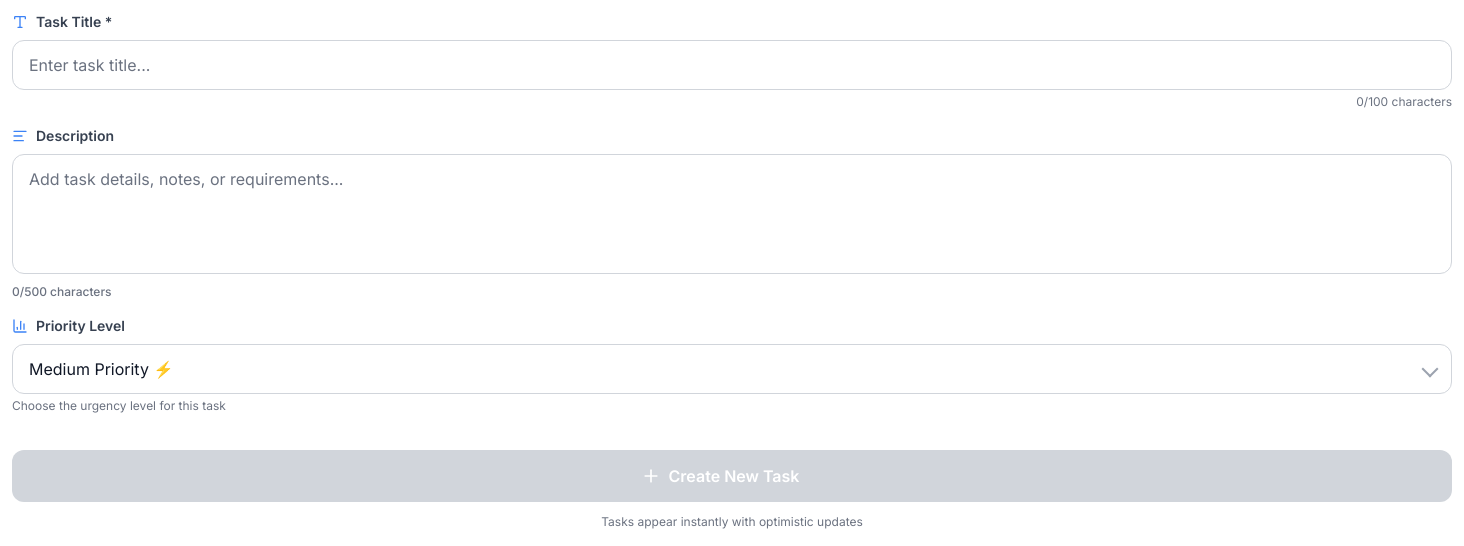
Test: TaskForm Component › el botón se habilita cuando hay título válido
Check: the button is disabled, box [12,450,1452,502]
Type "T" into the field labelled "Task Title *" at coordinates (732, 65), box [12,40,1452,90]
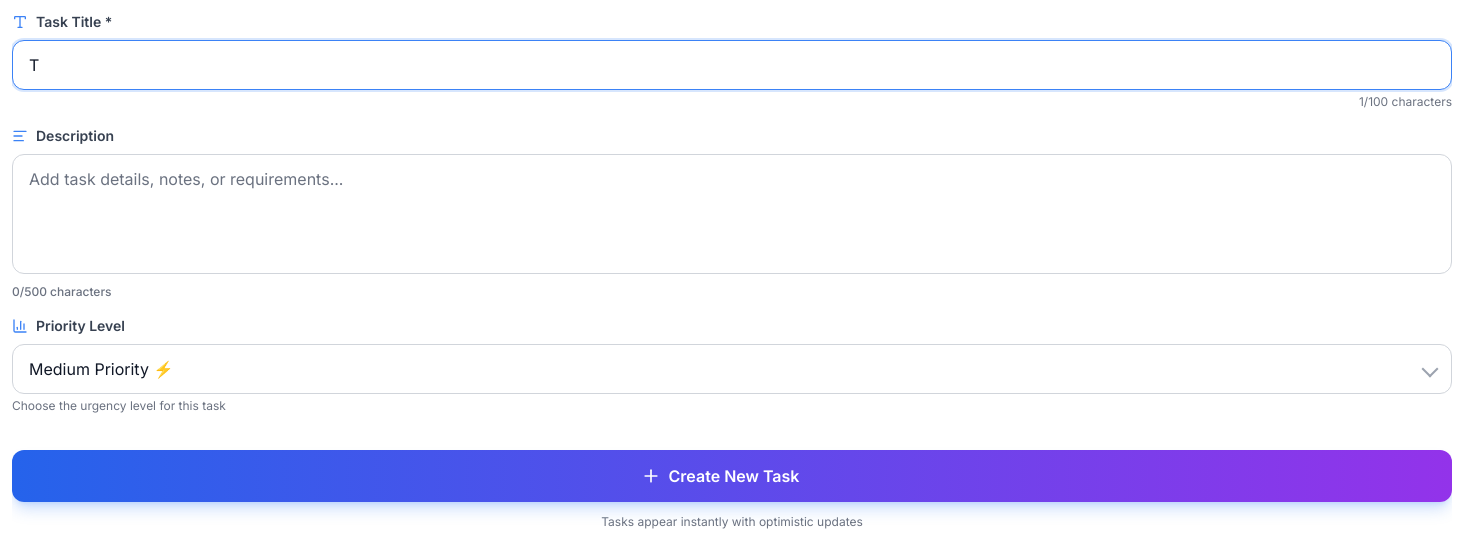
Check: the button is enabled, box [12,450,1452,502]
